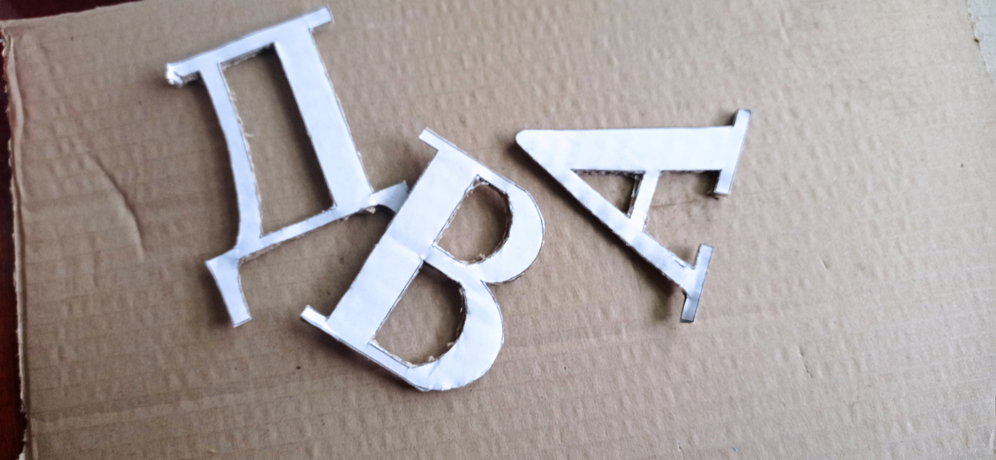a: (514, 107, 753, 326)
d: (164, 6, 412, 325)
v: (298, 124, 545, 395)
